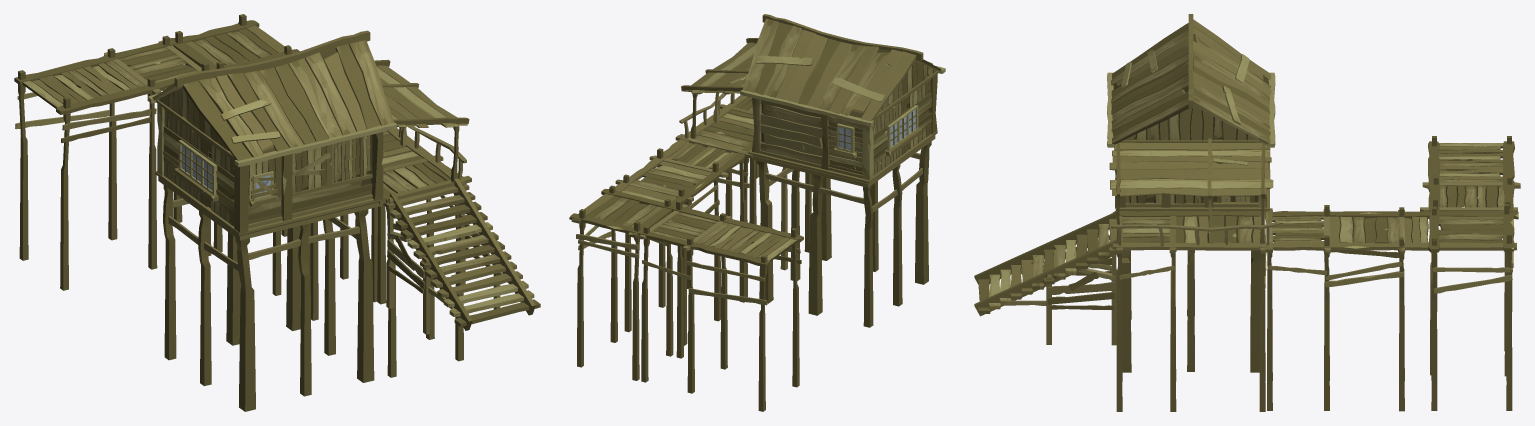
File: Wooden_House.fbx
3 views of the same model, side by side, from view 1: azimuth 30°, elevation 25°; view 2: azimuth 150°, elevation 25°; view 3: azimuth 270°, elevation 25° (orthographic). The views are drawn at different scales.
Visible parts, largest first — view 1: House_1_Pier, House_1_Roof, House_1_Foundation, House_1_Floor, House_1_Stairs, House_1_Terrace, House_1_Canopy, House_1_Window_2, House_1_Window_3; view 2: House_1_Pier, House_1_Roof, House_1_Floor, House_1_Foundation, House_1_Terrace, House_1_Canopy, House_1_Window_2, House_1_Window_1; view 3: House_1_Pier, House_1_Roof, House_1_Terrace, House_1_Stairs, House_1_Canopy, House_1_Foundation, House_1_Floor.
Part boxes in pixels (x1,y1,x2,y2): House_1_Pier: (14, 14, 377, 302); House_1_Roof: (147, 30, 397, 167); House_1_Foundation: (163, 185, 374, 411); House_1_Floor: (155, 103, 385, 240); House_1_Stairs: (383, 178, 540, 334); House_1_Terrace: (310, 126, 471, 377); House_1_Canopy: (374, 59, 469, 183); House_1_Window_2: (174, 140, 218, 201); House_1_Window_3: (249, 171, 277, 206); House_1_Pier: (569, 135, 803, 411); House_1_Roof: (740, 14, 945, 126); House_1_Floor: (748, 74, 937, 187); House_1_Foundation: (756, 141, 931, 327); House_1_Terrace: (679, 80, 811, 296); House_1_Canopy: (681, 38, 758, 138); House_1_Window_2: (885, 105, 922, 155); House_1_Window_1: (833, 123, 856, 158); House_1_Pier: (1266, 136, 1520, 411); House_1_Roof: (1107, 14, 1275, 147); House_1_Terrace: (1111, 211, 1279, 411); House_1_Stairs: (974, 211, 1123, 345); House_1_Canopy: (1109, 138, 1273, 243); House_1_Foundation: (1122, 250, 1261, 372); House_1_Floor: (1115, 162, 1269, 211).
Bounding box in the file's own units: 763 × 887 × 1527.
